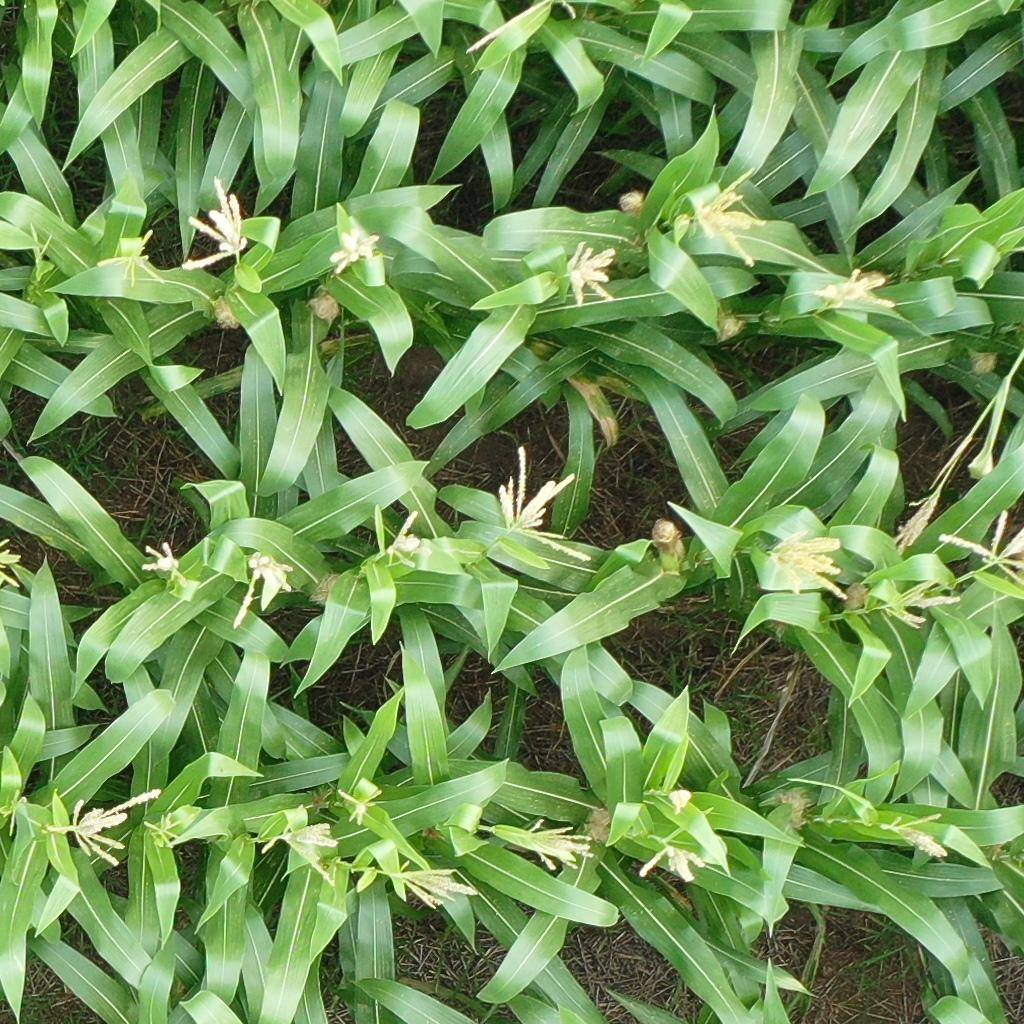Tassel: (496, 446, 592, 565), (47, 787, 162, 873), (686, 162, 766, 268), (259, 801, 343, 888), (762, 529, 854, 606), (176, 177, 249, 274), (941, 510, 1024, 587), (234, 548, 295, 630), (95, 224, 166, 290), (391, 857, 480, 909), (809, 263, 898, 314), (513, 816, 595, 870), (562, 236, 621, 309), (881, 580, 963, 631), (893, 480, 947, 553), (636, 836, 709, 888), (886, 810, 949, 862), (385, 506, 432, 572), (329, 222, 384, 274), (141, 541, 192, 590), (142, 810, 189, 851), (337, 784, 382, 825), (2, 789, 31, 839), (1, 536, 26, 590), (27, 220, 55, 264), (668, 788, 696, 818)
